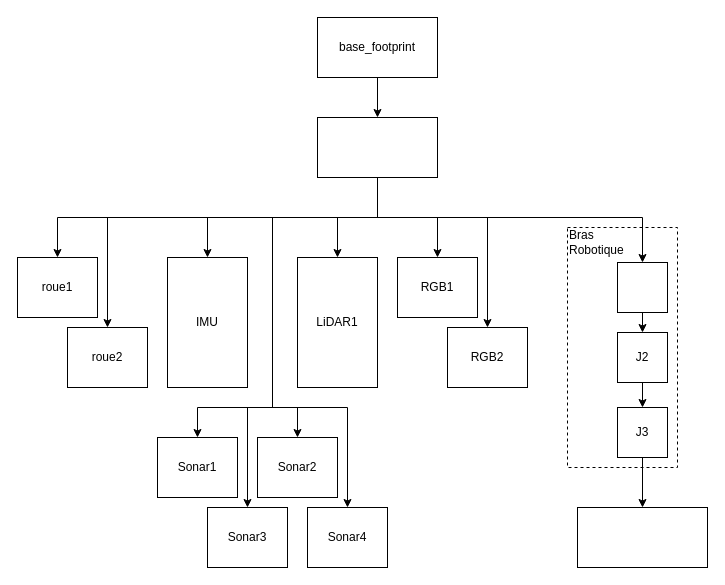
Image size: 725x585. Some labels were removed from this diagram. Each missing label, with the centre of its shape:
base_link: the point at 377,147
J1: the point at 642,287
RGB-D: the point at 642,537
